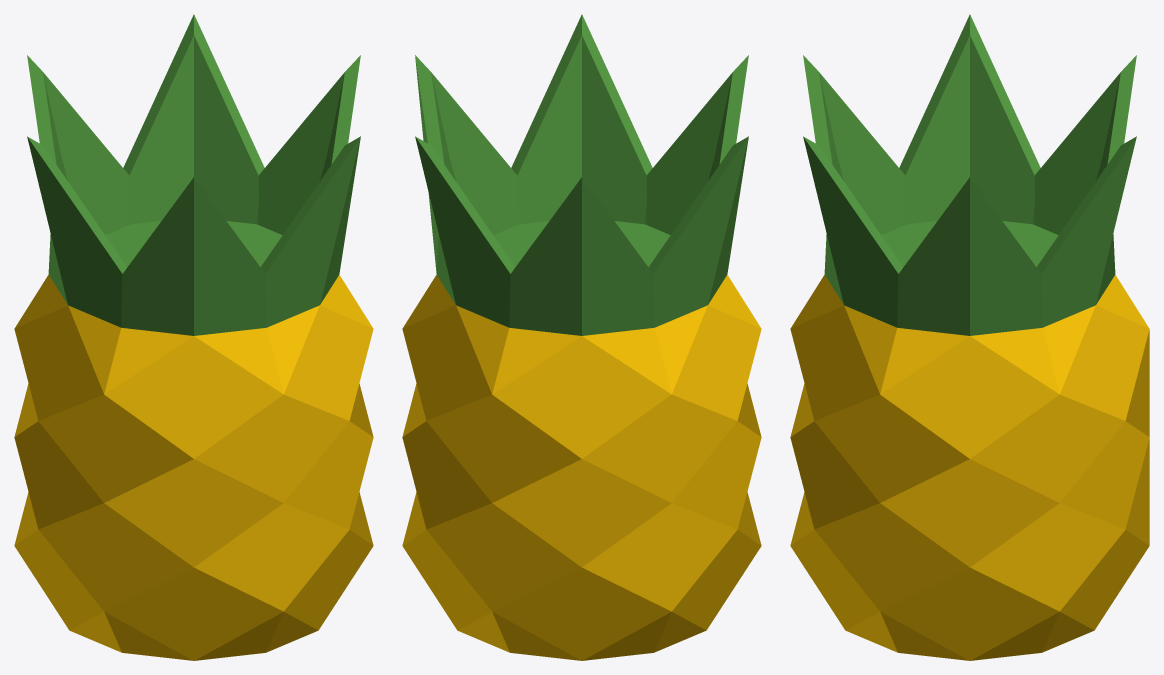
The model's file is Pineapple.fbx.
The picture shows the model from 3 angles, left to right: view 1: azimuth 30°, elevation 25°; view 2: azimuth 150°, elevation 25°; view 3: azimuth 270°, elevation 25°; orthographic projection.
Parts seen in each view (by area): view 1: Pineapple; view 2: Pineapple; view 3: Pineapple.
Part boxes in pixels (x1,y1,x2,y2): Pineapple: [14, 14, 373, 660]; Pineapple: [402, 14, 761, 660]; Pineapple: [790, 14, 1149, 660].
Bounding box in the file's own units: 215 × 310 × 200.
